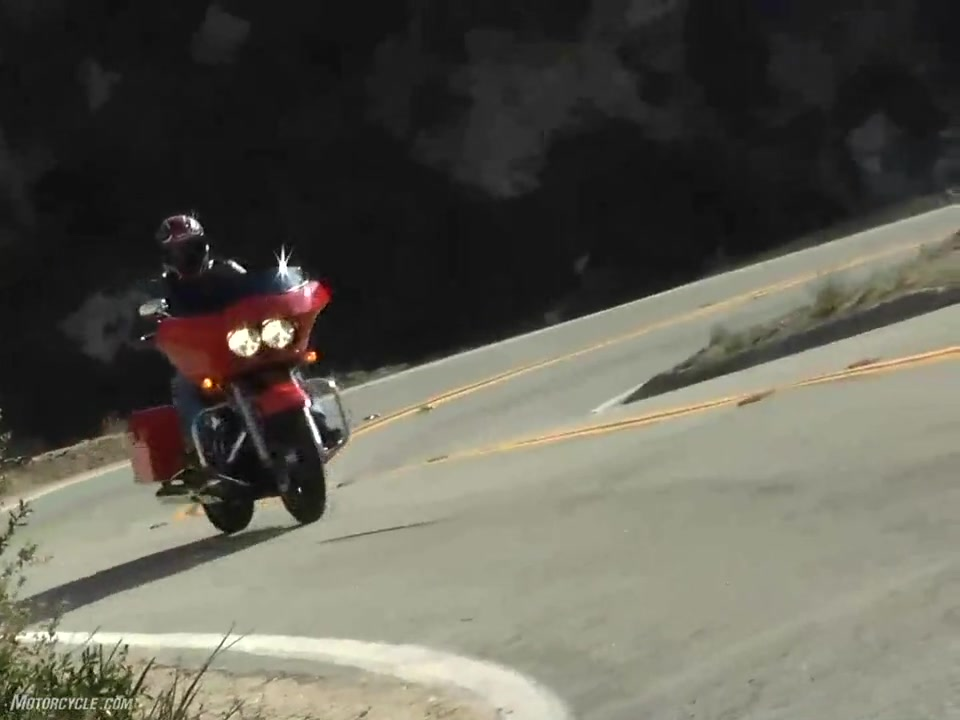motorbike: (119, 245, 352, 537)
